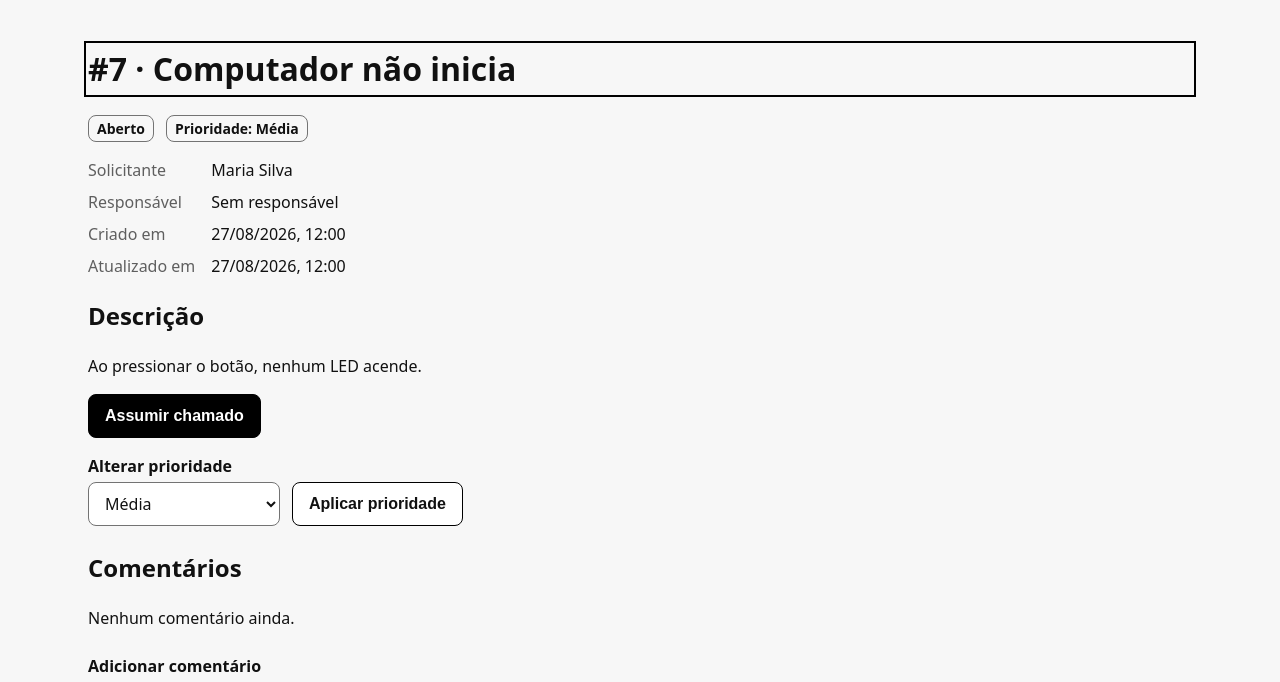
Test: TicketDetailPage › lets an agent claim an open ticket and hides the action for a requester
This screenshot has width=1280, height=682.
Click the button "Assumir chamado" at (174, 416), box [88,394,261,438]
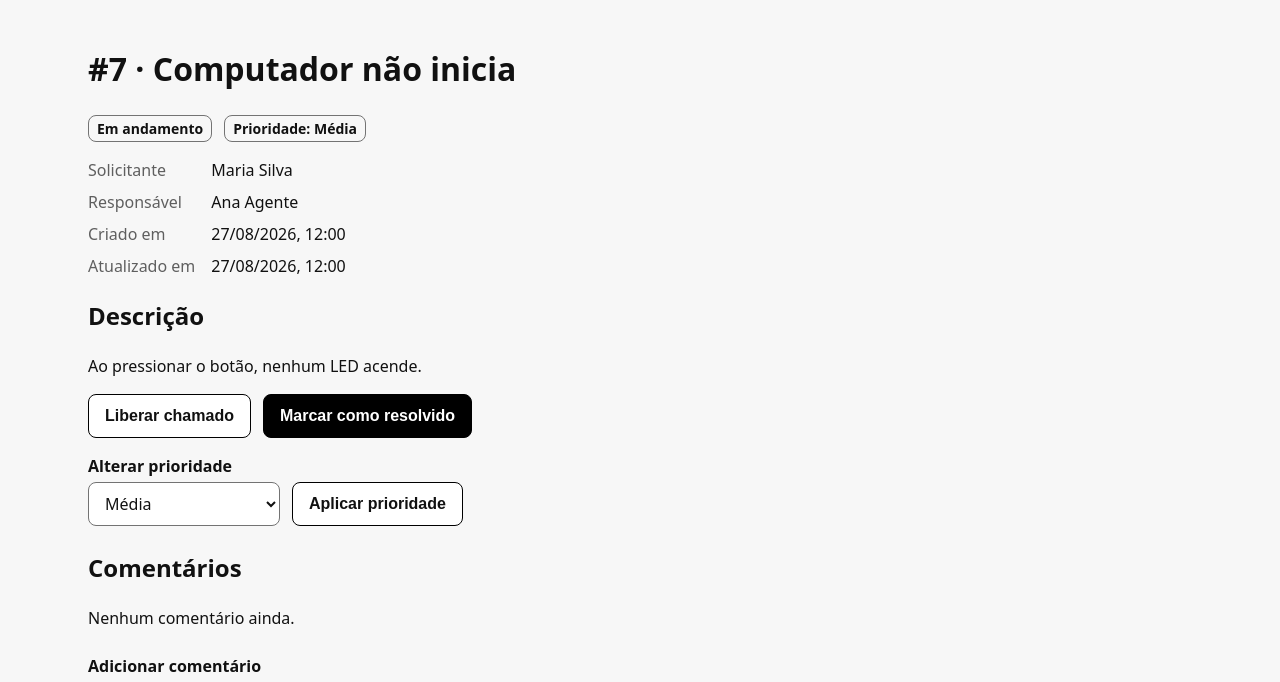
Result: the text "Em andamento" is shown at [88,115,212,142]
Result: the button "Assumir chamado" is gone
